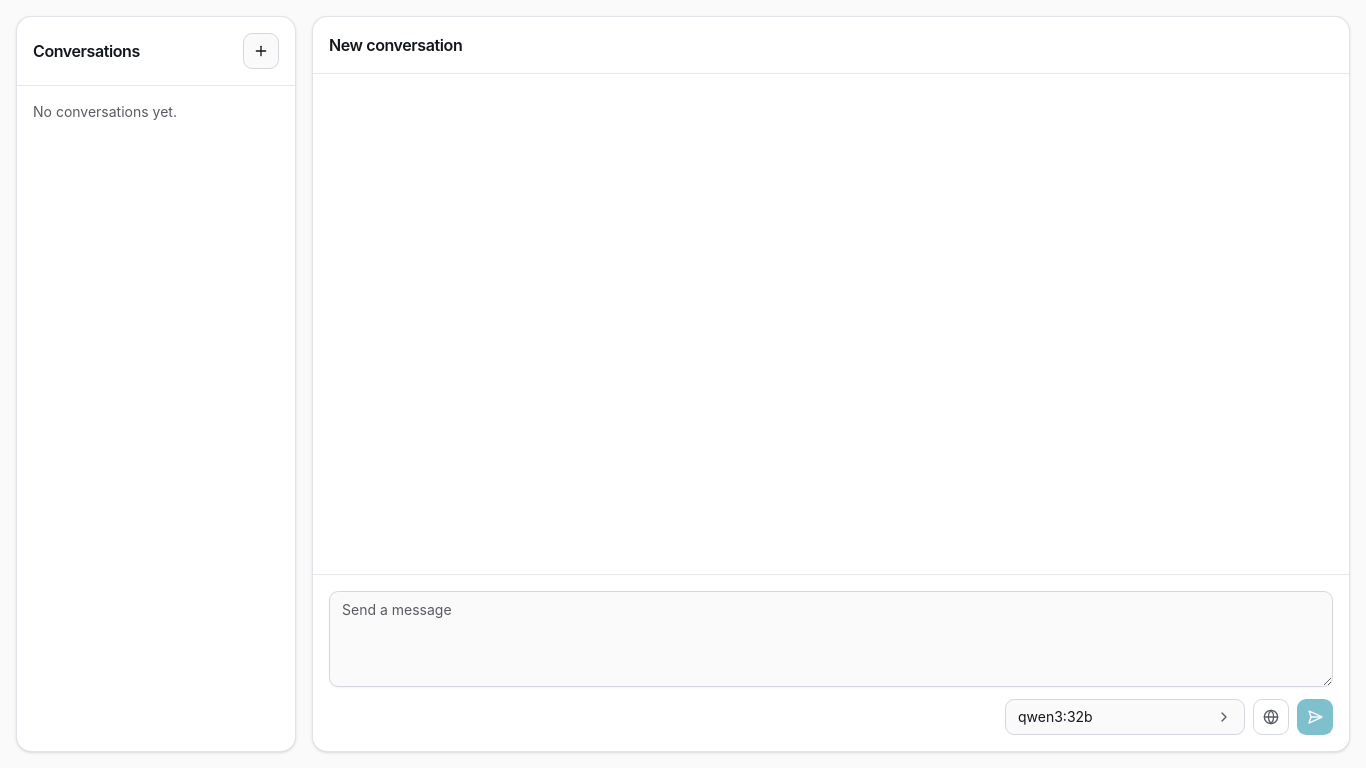
Scenario: ChatModule › handles send -> streaming updates -> done with rendered assistant output
This screenshot has width=1366, height=768.
Type "Hi there" into the text box with placeholder "Send a message" at [831, 639], box top-left (329, 591), bottom-right (1333, 687)
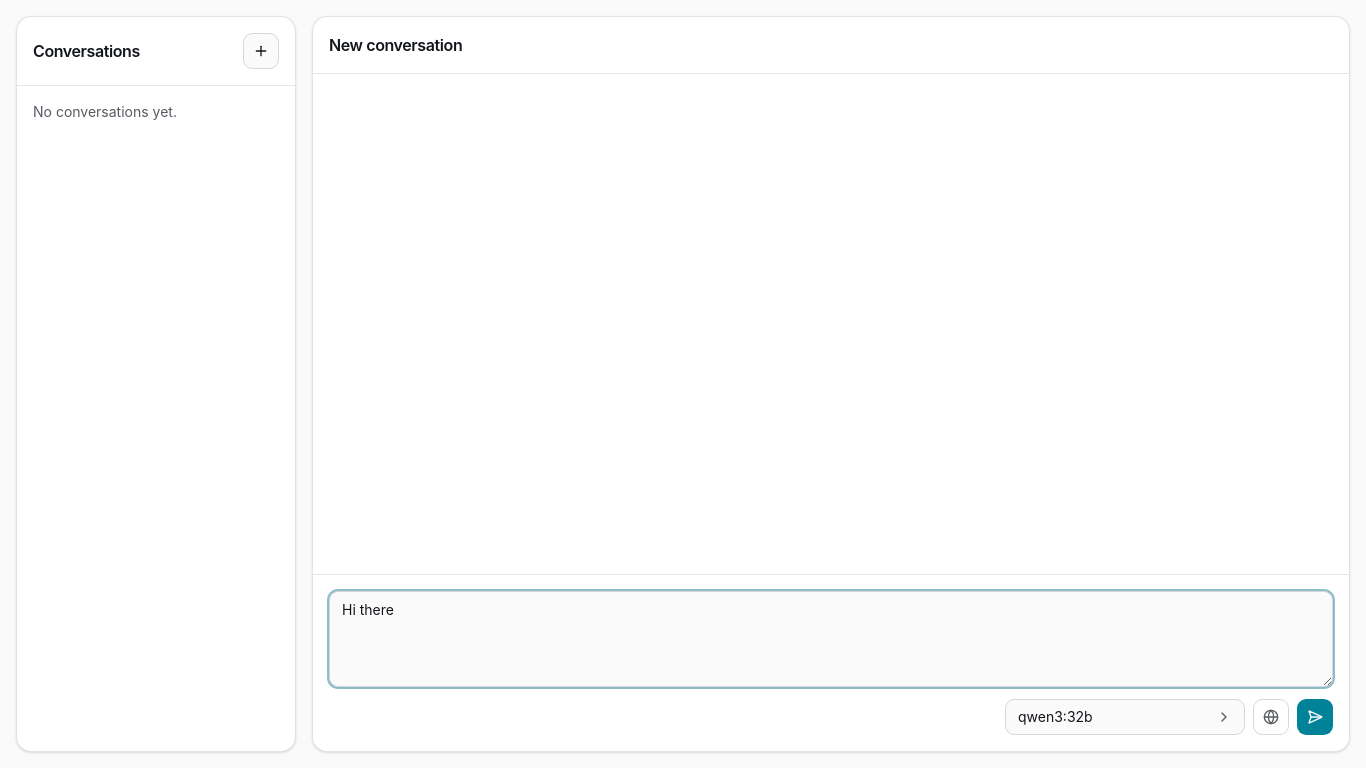
Click the button named "Send message" at [1315, 717], box top-left (1297, 699), bottom-right (1333, 735)
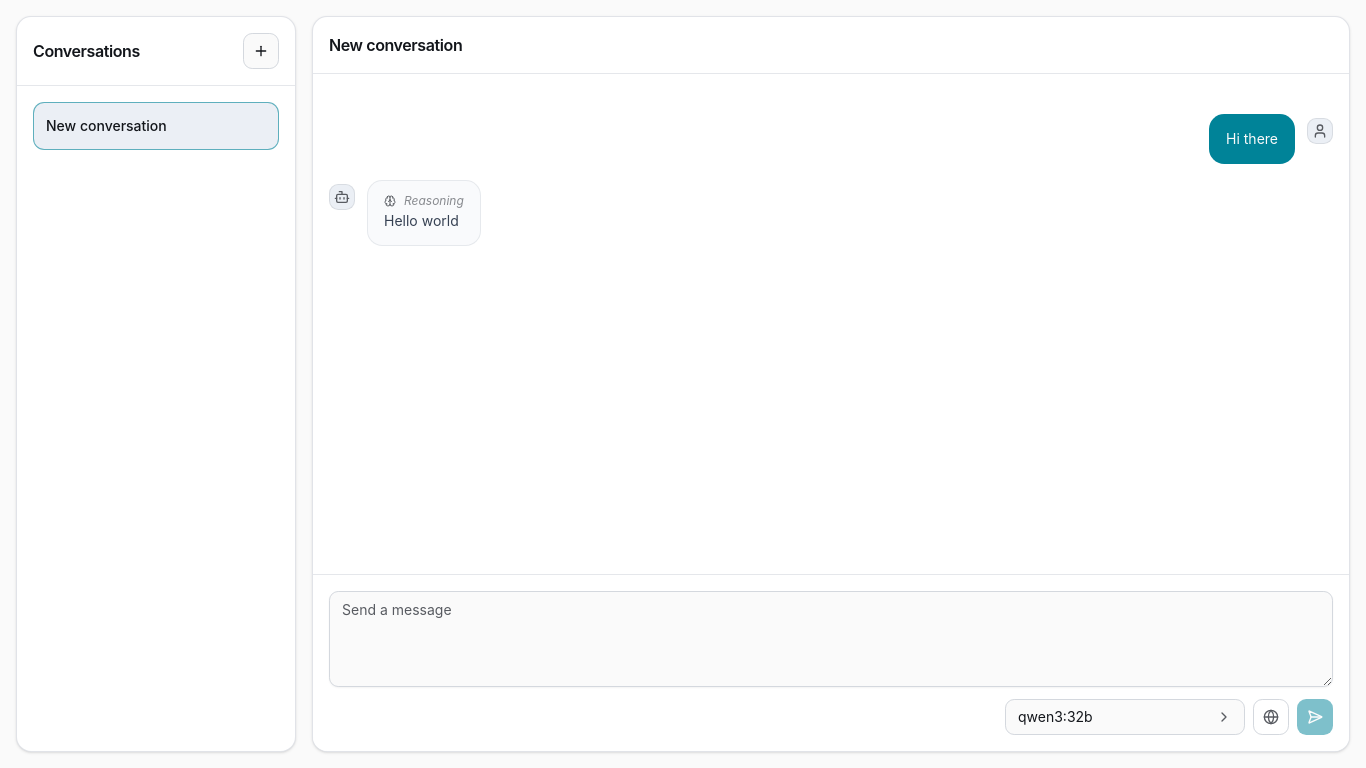
Check: the text "Hi there" is shown, box top-left (1226, 127), bottom-right (1278, 151)
Check: the text "Hello world" is shown, box top-left (384, 209), bottom-right (464, 233)
